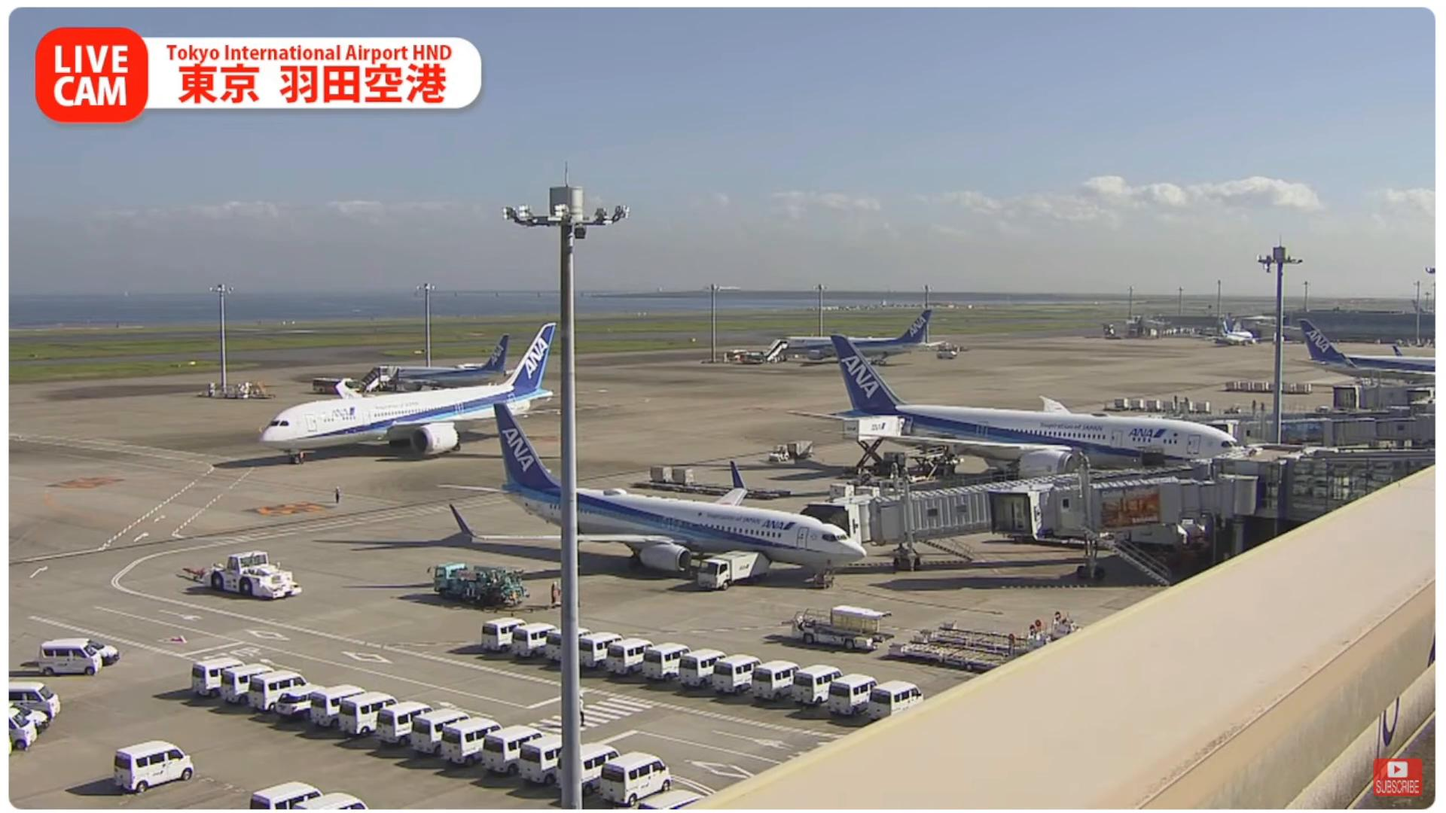Aerobridge: (812, 458, 1220, 543), (991, 451, 1256, 537)
Airplane: (438, 402, 868, 589)
Baggage truck: (696, 550, 774, 591)
Fuel Tanker: (433, 563, 528, 607)
JCPL: (890, 609, 1077, 670)
Skyloader: (793, 603, 894, 653)
Window: (1290, 445, 1435, 519)
